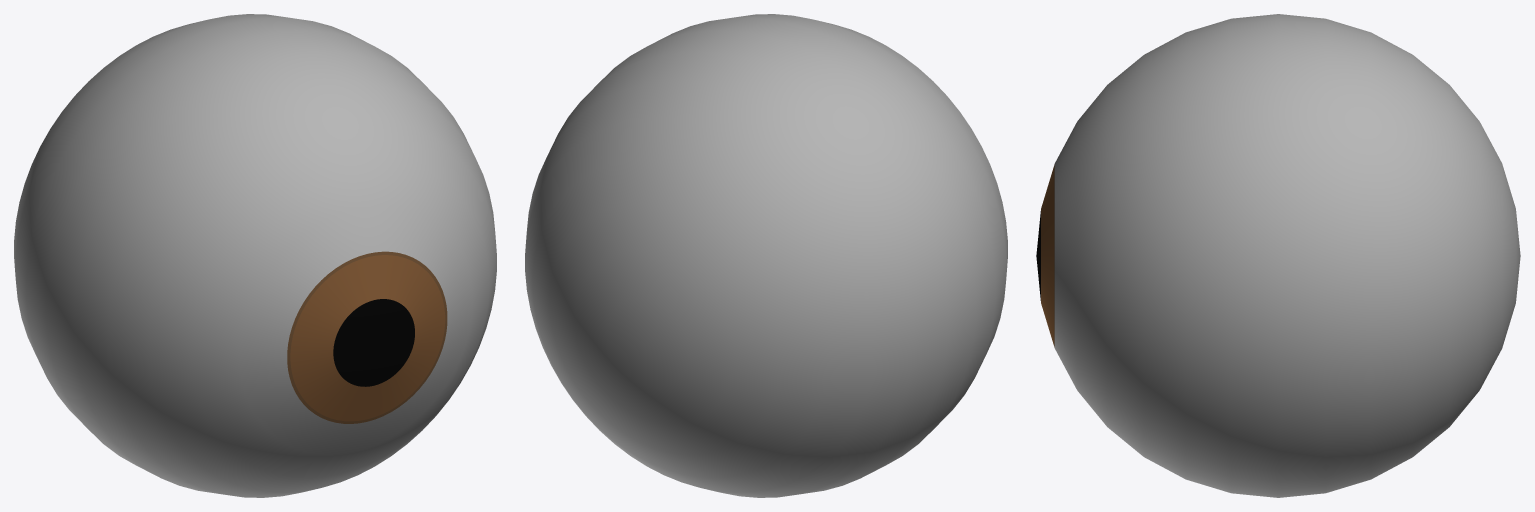
The model's file is Eye.fbx.
3 renders of one model, left to right at view 1: azimuth 30°, elevation 25°; view 2: azimuth 150°, elevation 25°; view 3: azimuth 270°, elevation 25°, orthographic.
Visible parts, largest first — view 1: Sphere, Sphere.002, Sphere.001, Sphere.003; view 2: Sphere; view 3: Sphere, Sphere.002.
Boxes of the visible parts, x1,y1,x2,y2 form: Sphere: (14,14,496,497); Sphere.002: (290,255,445,421); Sphere.001: (333,299,414,386); Sphere.003: (287,251,447,423); Sphere: (525,14,1007,497); Sphere: (1054,14,1520,497); Sphere.002: (1041,167,1053,344).
Size of the model in its own units: 200 by 200 by 200.
